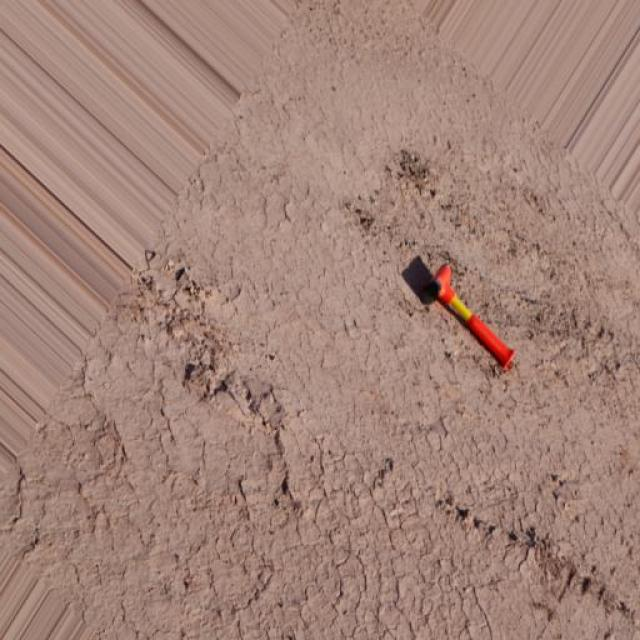mallet: (400, 254, 516, 372)
